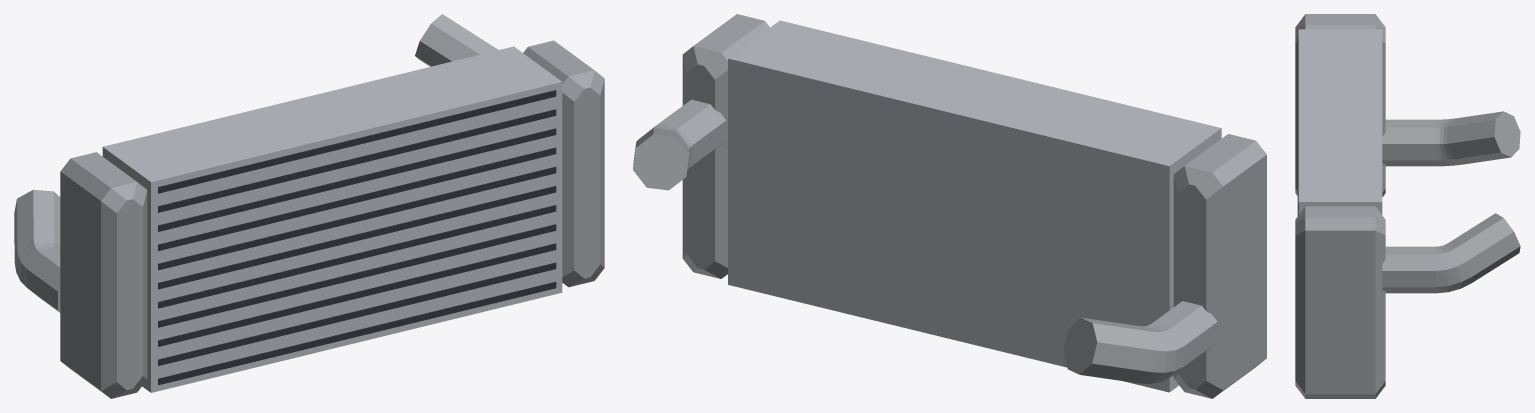
File: brute_500.glb
3 views of the same model, side by side, from view 1: azimuth 30°, elevation 25°; view 2: azimuth 150°, elevation 25°; view 3: azimuth 270°, elevation 25° (orthographic). The views are drawn at different scales.
Parts seen in each view (by area): view 1: model; view 2: model; view 3: model.
Boxes of the visible parts, box(x1,y1,x2,y2) form: model: box(14, 14, 604, 398); model: box(633, 14, 1266, 398); model: box(1295, 14, 1520, 398).
Size of the model in its own units: 0.6 by 0.24 by 0.2696.
2 materials, 1 textured.
